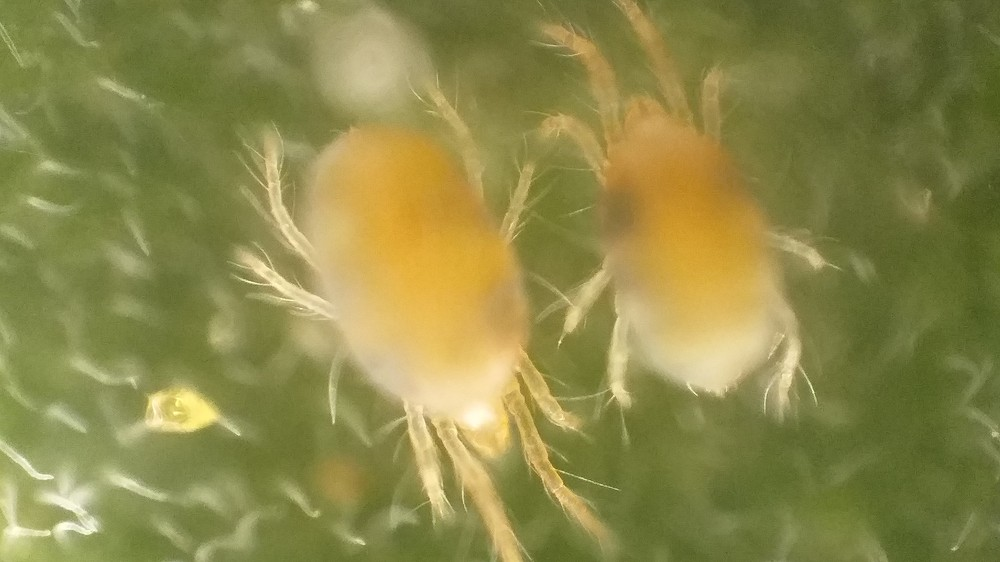Aracnido Rojo: (230, 80, 630, 554), (544, 12, 842, 456)
